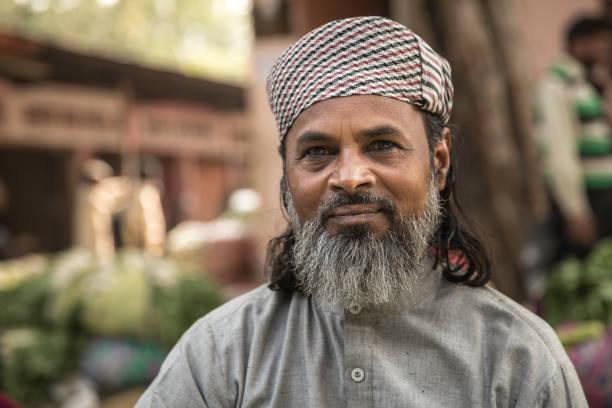Human: (165, 19, 565, 408)
